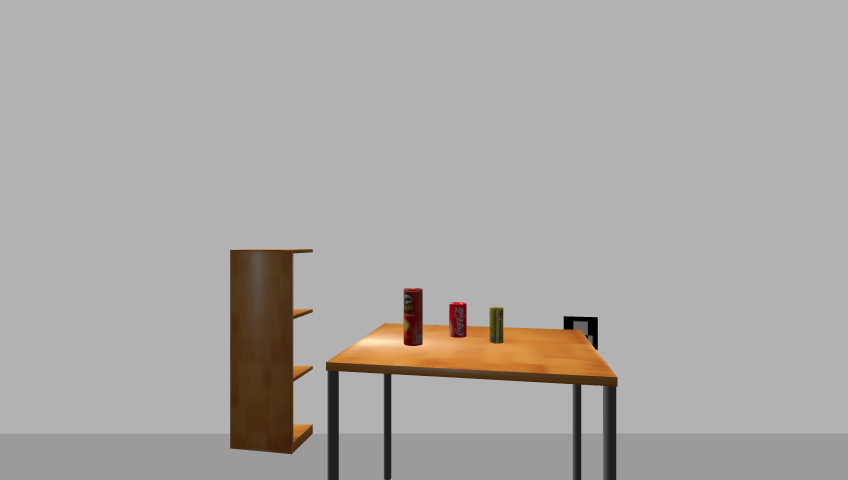aruco marker: (560, 315, 603, 354)
biscuits pack: (489, 306, 505, 346)
bookshelf: (226, 247, 319, 456)
coke can: (447, 302, 469, 340)
dinner table: (322, 322, 627, 480)
pringles can: (402, 287, 423, 348)
